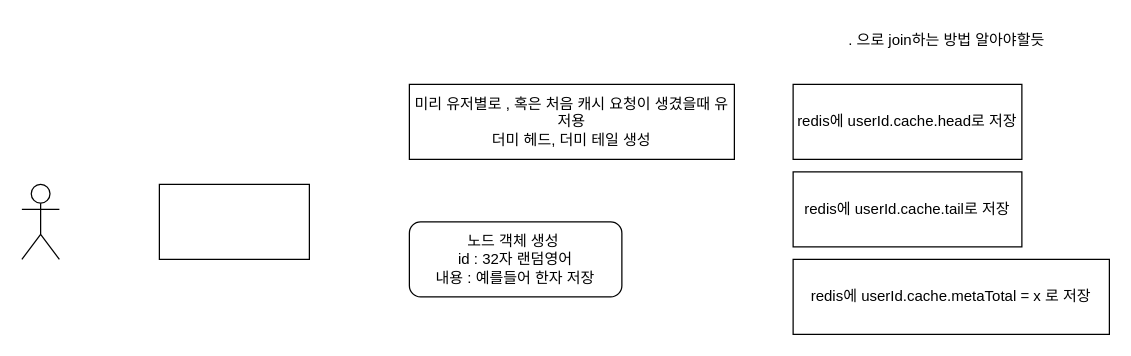
Some shapes in this 1131 by 356 pixel diagram are drawn without their labels. Each missing label, with the centre of its shape:
Actor: [40,221]
캐시 내용 보냄: [233,221]
